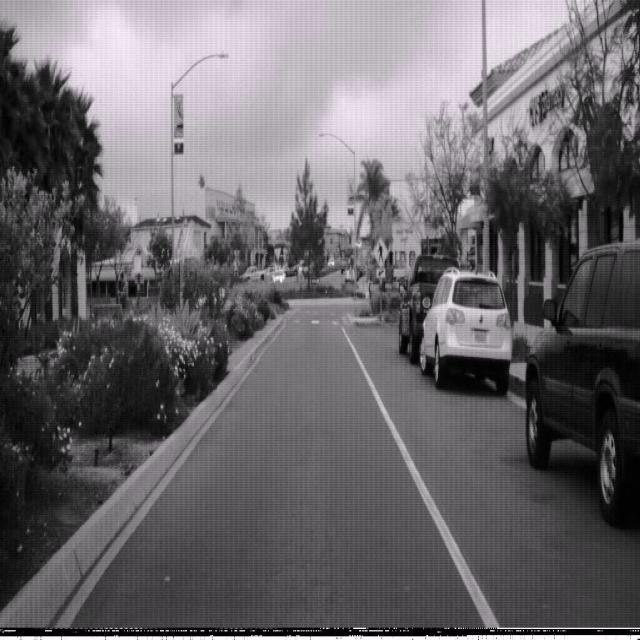pedestrianCrossing: (372, 233, 389, 268)
